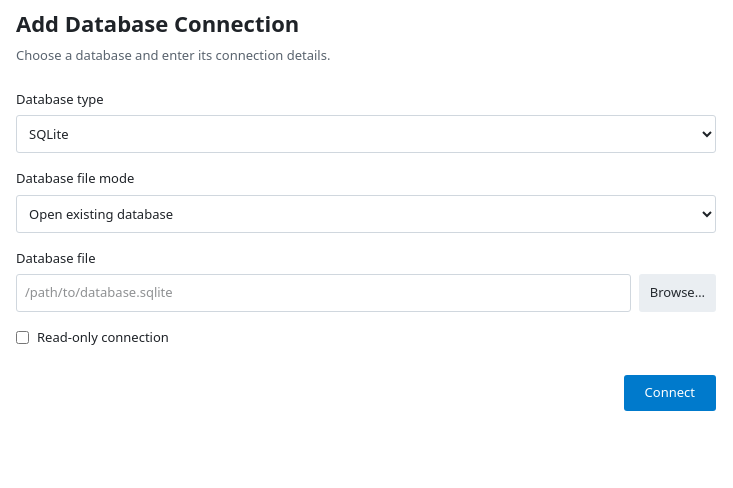
single connection form › opens file selection from the same form and validates missing paths
Later steps or results of the test are not shown.
Step 1. Click the button "Connect" → coordinates (670, 393), box [624,375,716,410]
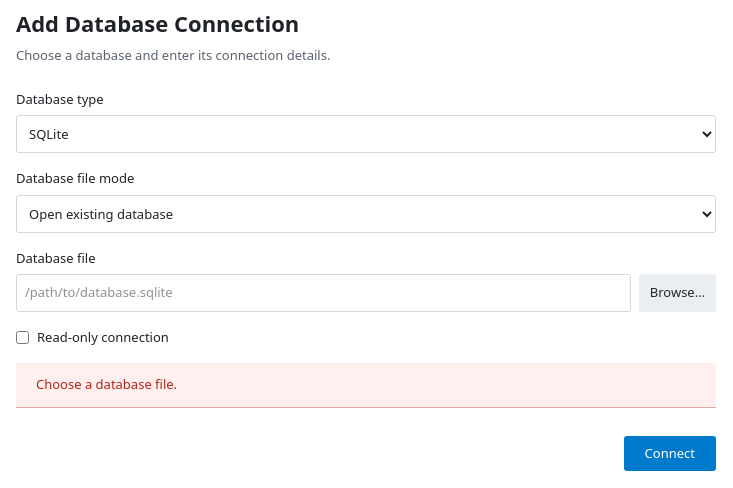
Expected: the message shows "Choose a database file", [36,375,177,393]
